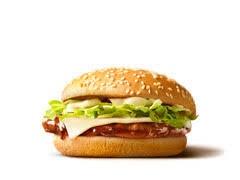hamburger: (44, 67, 200, 160)
